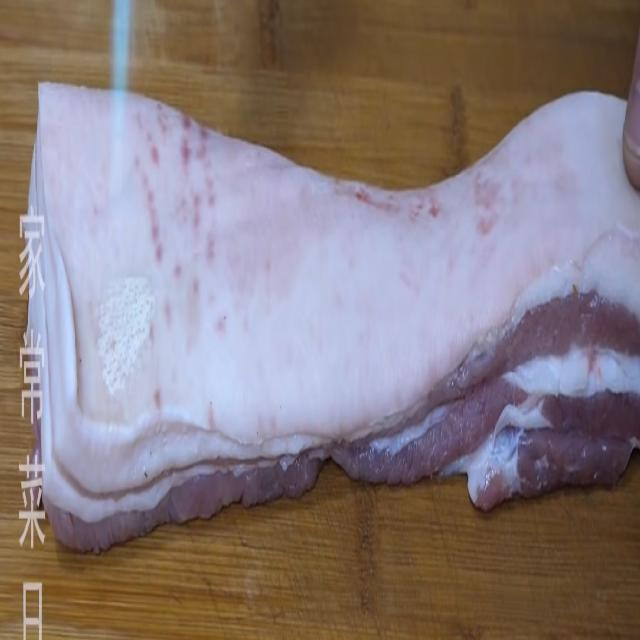pork: (39, 80, 627, 536)
